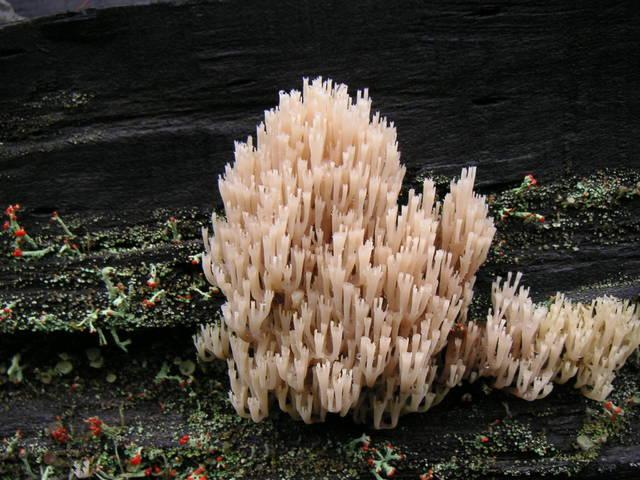Edible Mushroom: (190, 74, 639, 430)
